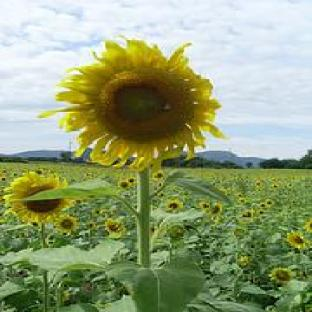sunflower: (40, 35, 227, 168)
